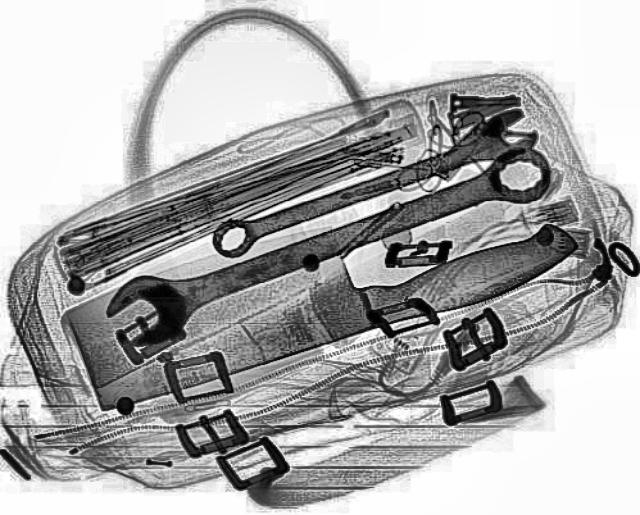Knife: (40, 154, 588, 416)
Wrench: (90, 139, 572, 351), (198, 103, 548, 264)
